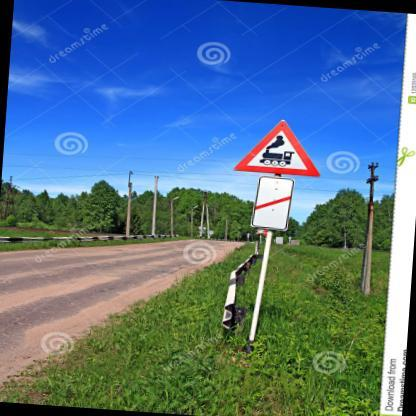road_sign: (234, 120, 319, 175), (251, 176, 294, 232)
